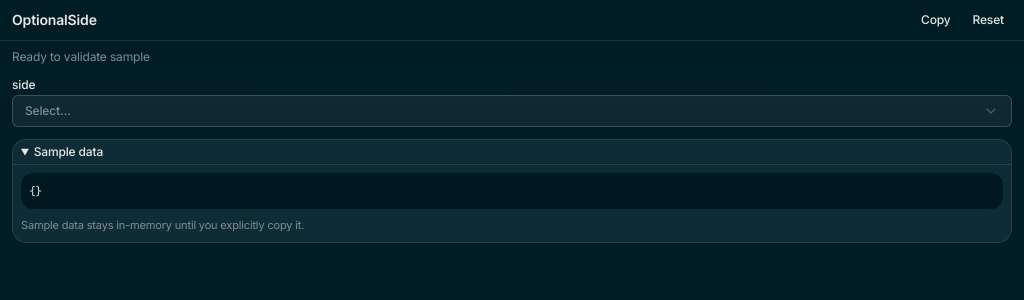
Scenario: FormPreviewPanel › lets users clear an optional enum back to the unset placeholder
The image size is (1024, 300).
Click the dropdown named "side". click: click(48, 110)
box: [12,95,1012,127]
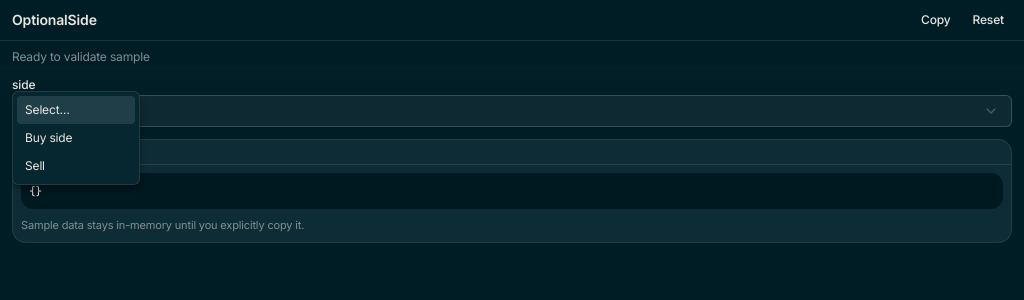
Click the option "Sell". click: click(35, 166)
box: [25,158,45,173]
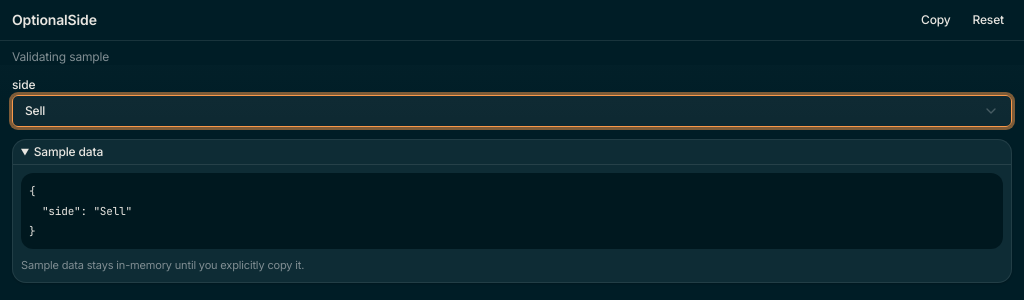
Now the dropdown named "side" reads "Sell"
Note: Clearing back to unset must round-trip through the sentinel "Select…" item.
Click the dropdown named "side". click: click(35, 110)
box: [12,95,1012,127]
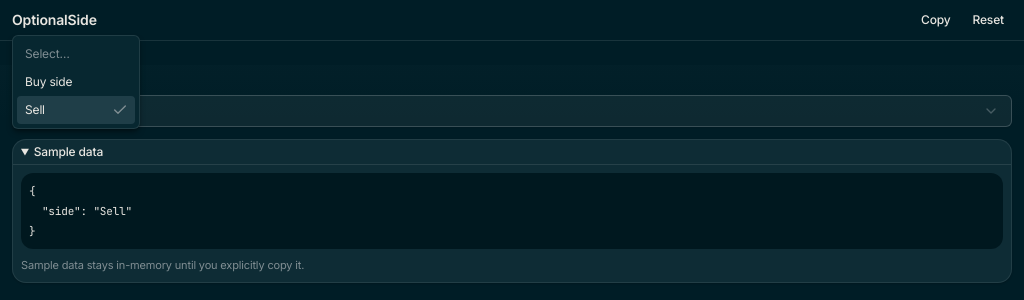
Click the option "Select…". click: click(47, 54)
box: [25,46,70,61]
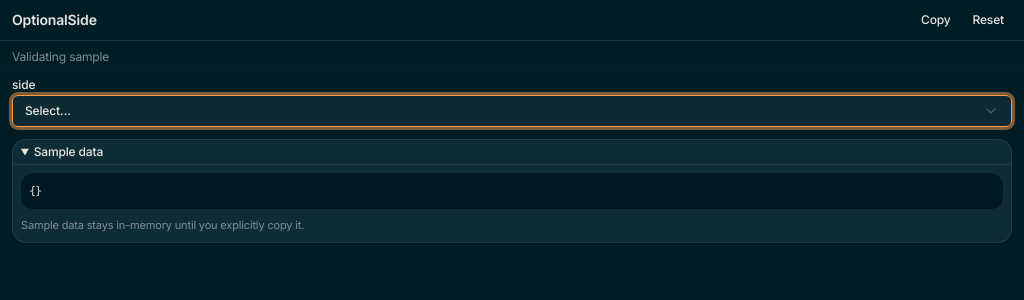
Now the dropdown named "side" reads "Select…", box [12,95,1012,127]
